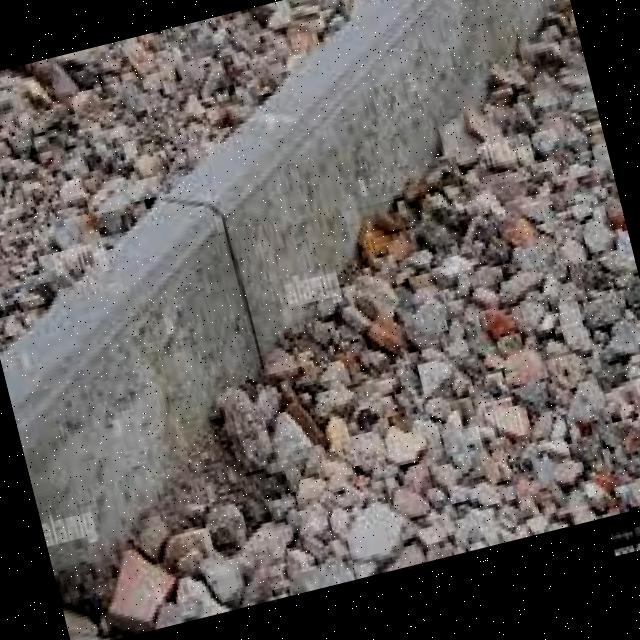curb: (1, 190, 276, 564), (151, 53, 381, 344), (320, 1, 589, 158)
